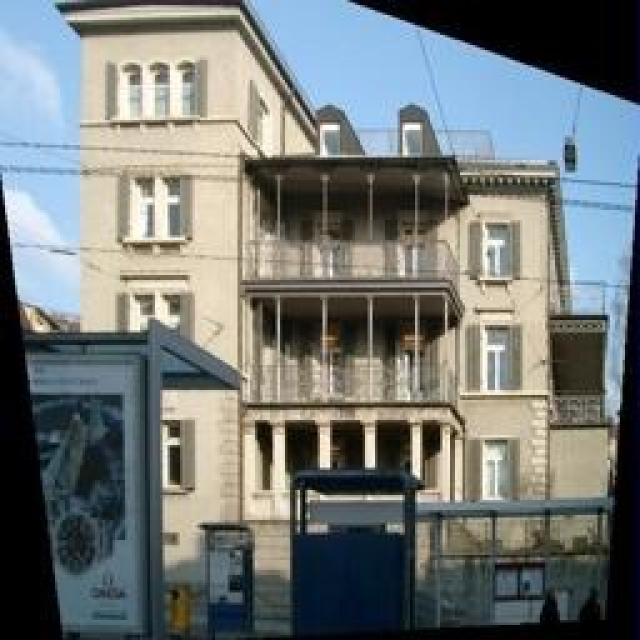building: (57, 0, 640, 635)
